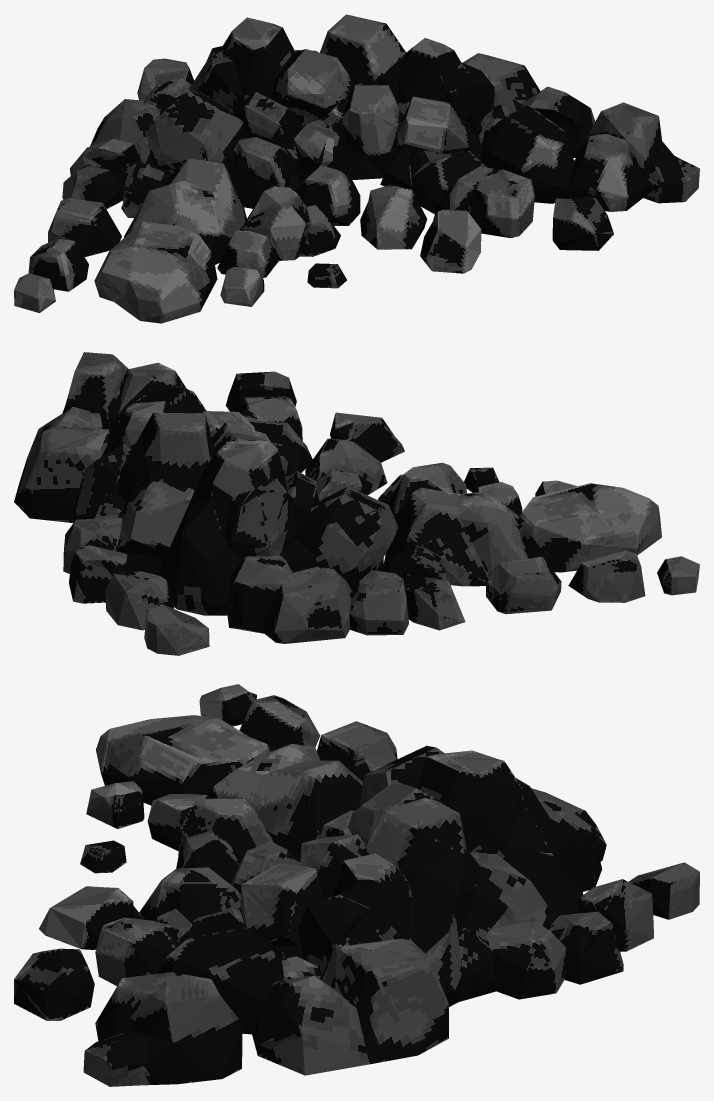
The picture shows the model from 3 angles, top to bottom: view 1: azimuth 30°, elevation 25°; view 2: azimuth 150°, elevation 25°; view 3: azimuth 270°, elevation 25°; orthographic projection. The views are drawn at different scales.
Visible parts, largest first — view 1: OBJ0d6; view 2: OBJ0d6; view 3: OBJ0d6.
Part boxes in pixels (<box>): OBJ0d6: <box>14,14,699,323</box>; OBJ0d6: <box>14,352,699,655</box>; OBJ0d6: <box>14,684,699,1086</box>.
Bounding box in the file's own units: 0.5231 × 0.0979 × 0.3982.
1 material, 1 textured.
